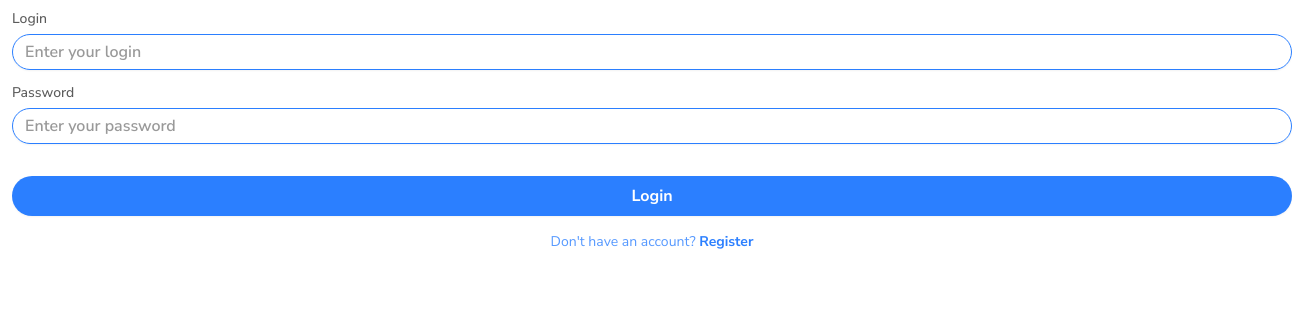
it: LoginForm › should show validation errors for empty form submission
This screenshot has width=1304, height=314.
Click the button "Login": [652, 196] box [12,176,1292,216]
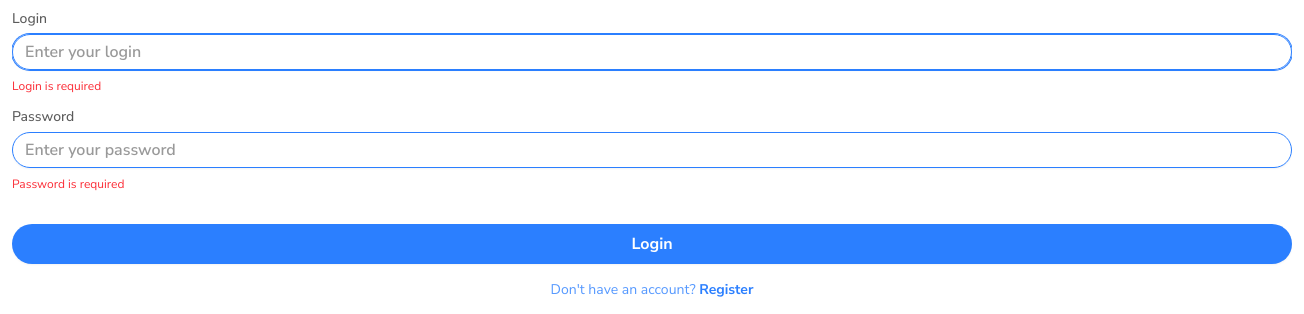
Expected: the text "Login is required" is shown, [12,78,101,94]
Expected: the text "Password is required" is shown, [12,176,124,192]
